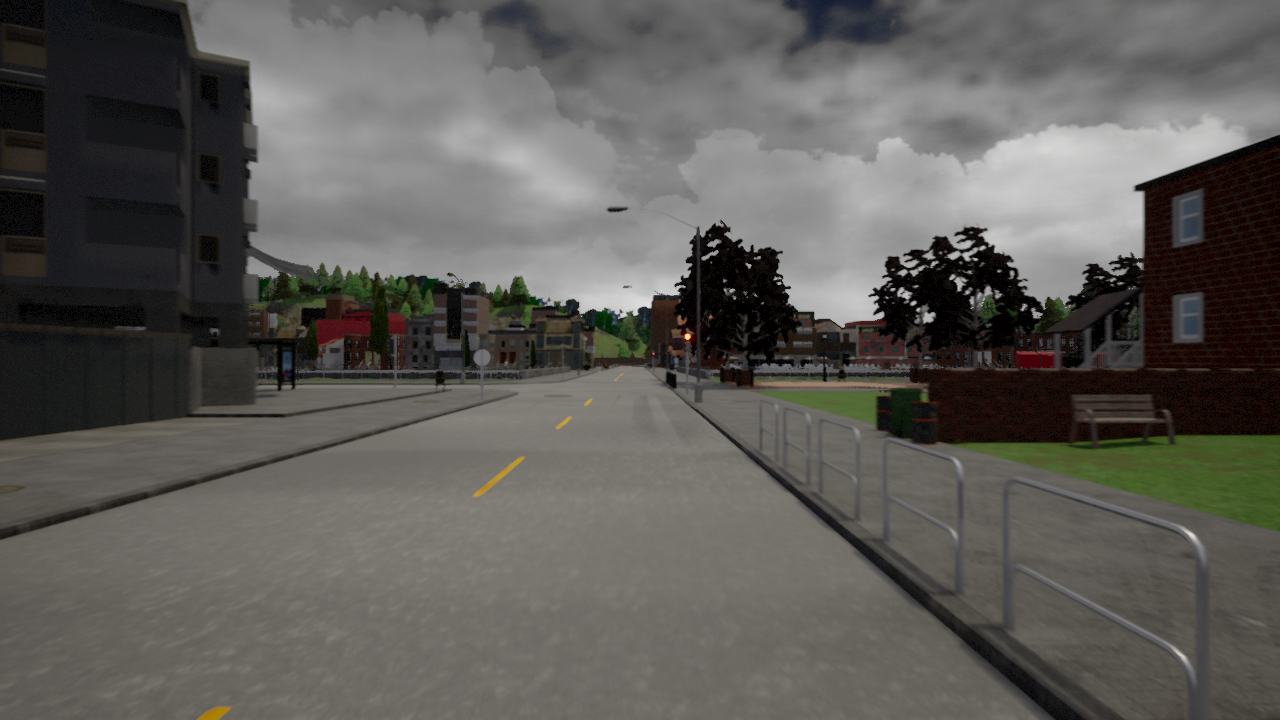red: (683, 332, 693, 354)
